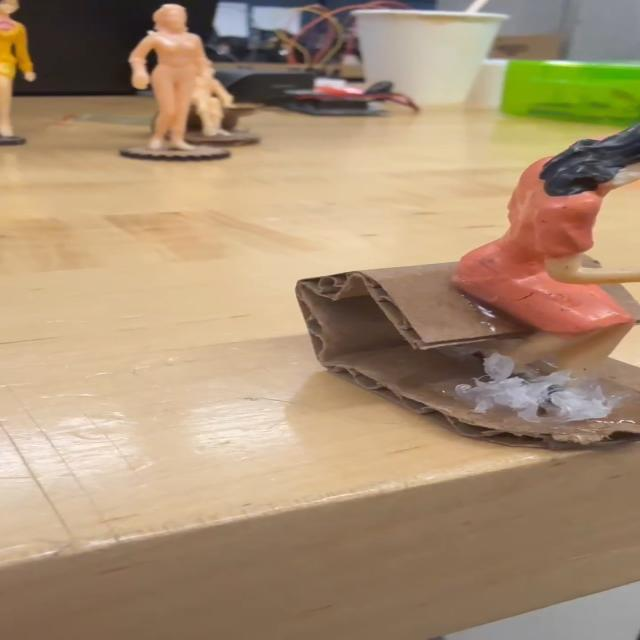Authorized: (449, 109, 640, 414)
